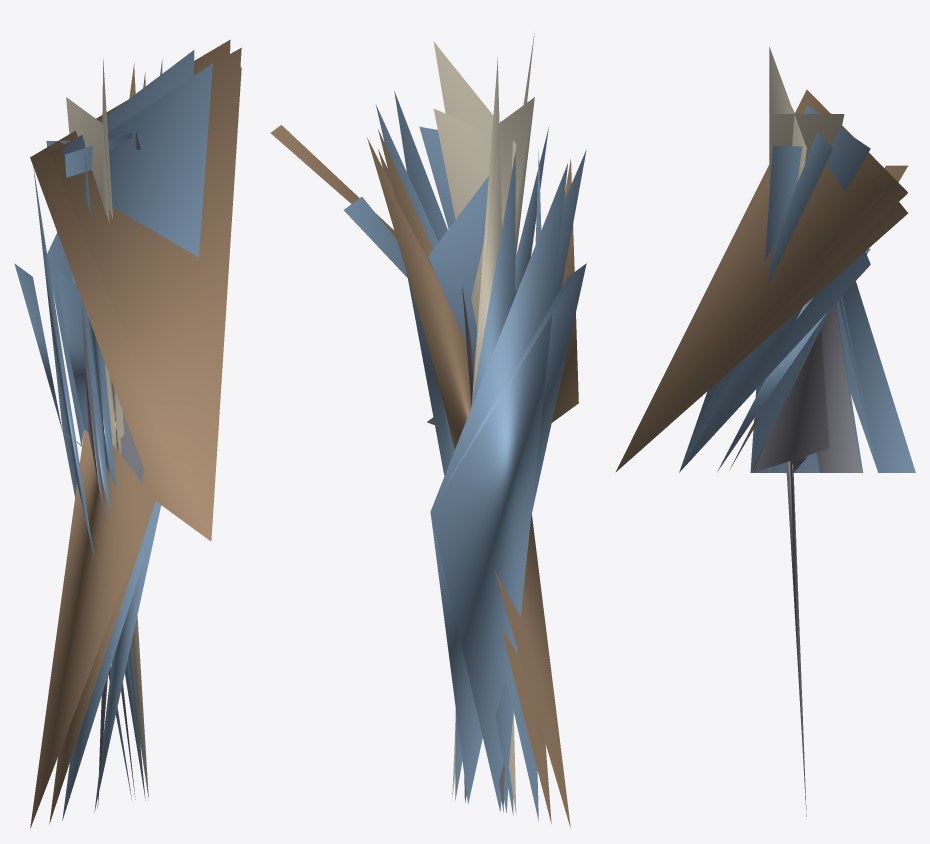
The model's file is player_chop.glb.
3 views of the same model, side by side, from view 1: azimuth 30°, elevation 25°; view 2: azimuth 150°, elevation 25°; view 3: azimuth 270°, elevation 25° (orthographic).
Parts seen in each view (by area): view 1: player_chop_node; view 2: player_chop_node; view 3: player_chop_node.
Part boxes in pixels (x1,y1,x2,y2): player_chop_node: (14,39,241,829); player_chop_node: (270,33,586,828); player_chop_node: (615,46,915,816).
Bounding box in the file's own units: 0.8 × 2.3 × 0.8.
